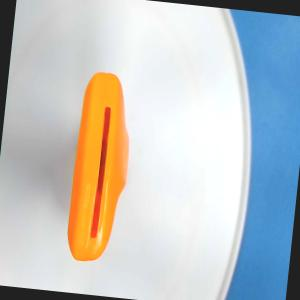estilete: (62, 68, 136, 264)
